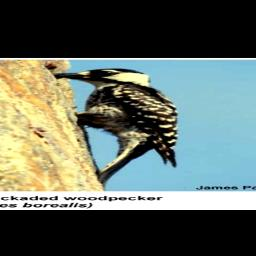Woodpecker: (46, 68, 188, 184)
